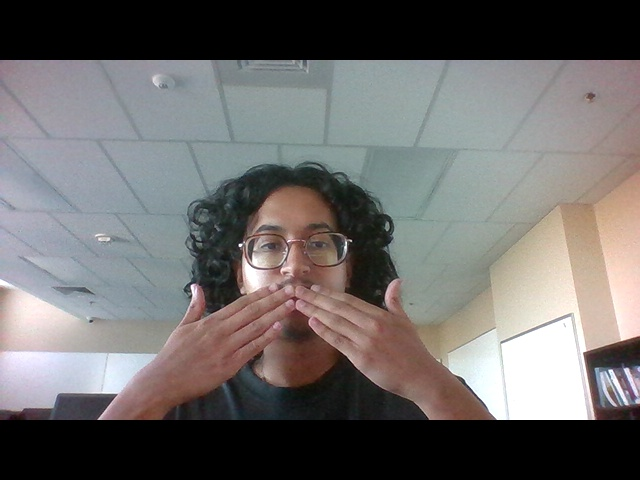thanks: (148, 273, 465, 392)
